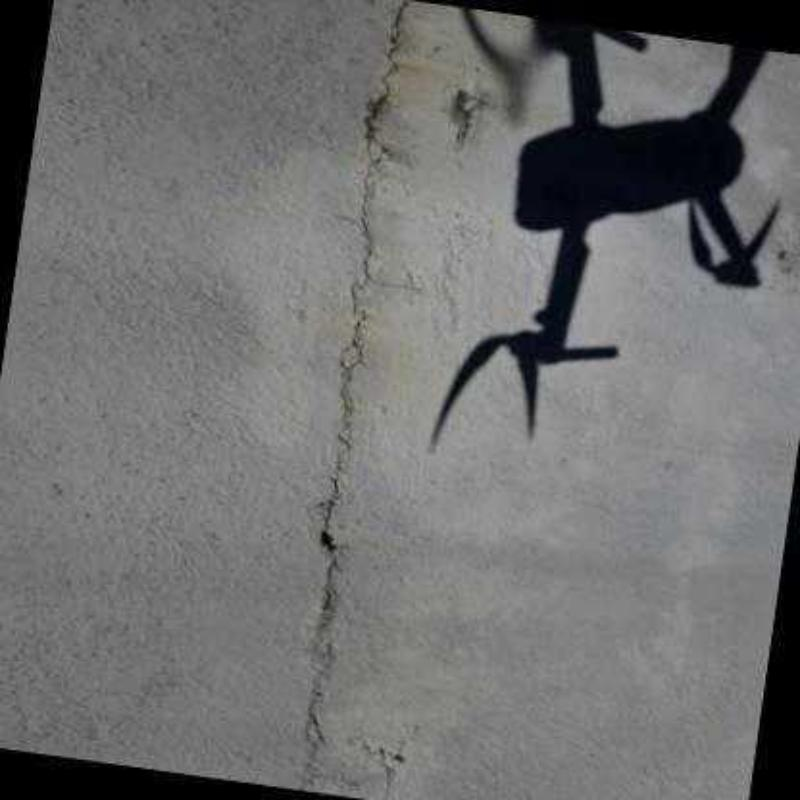pothole: (295, 0, 413, 790)
